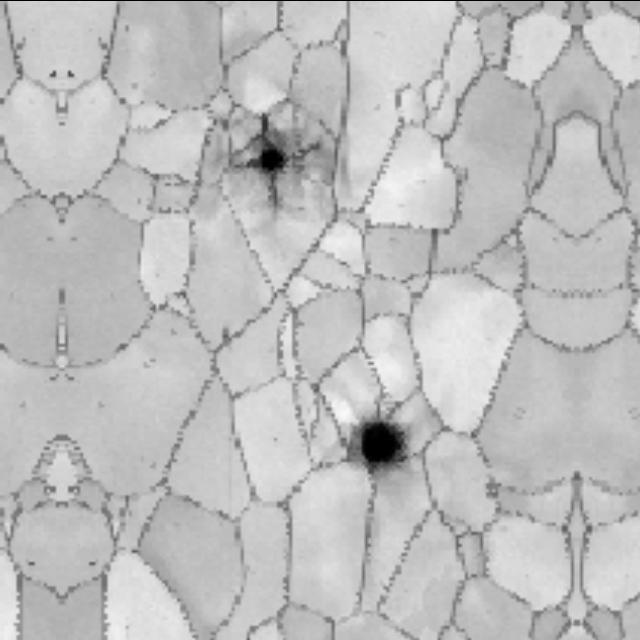good_void: (219, 109, 329, 219), (351, 407, 415, 477), (66, 66, 79, 79), (46, 66, 59, 79), (88, 557, 100, 568), (25, 557, 37, 568)
